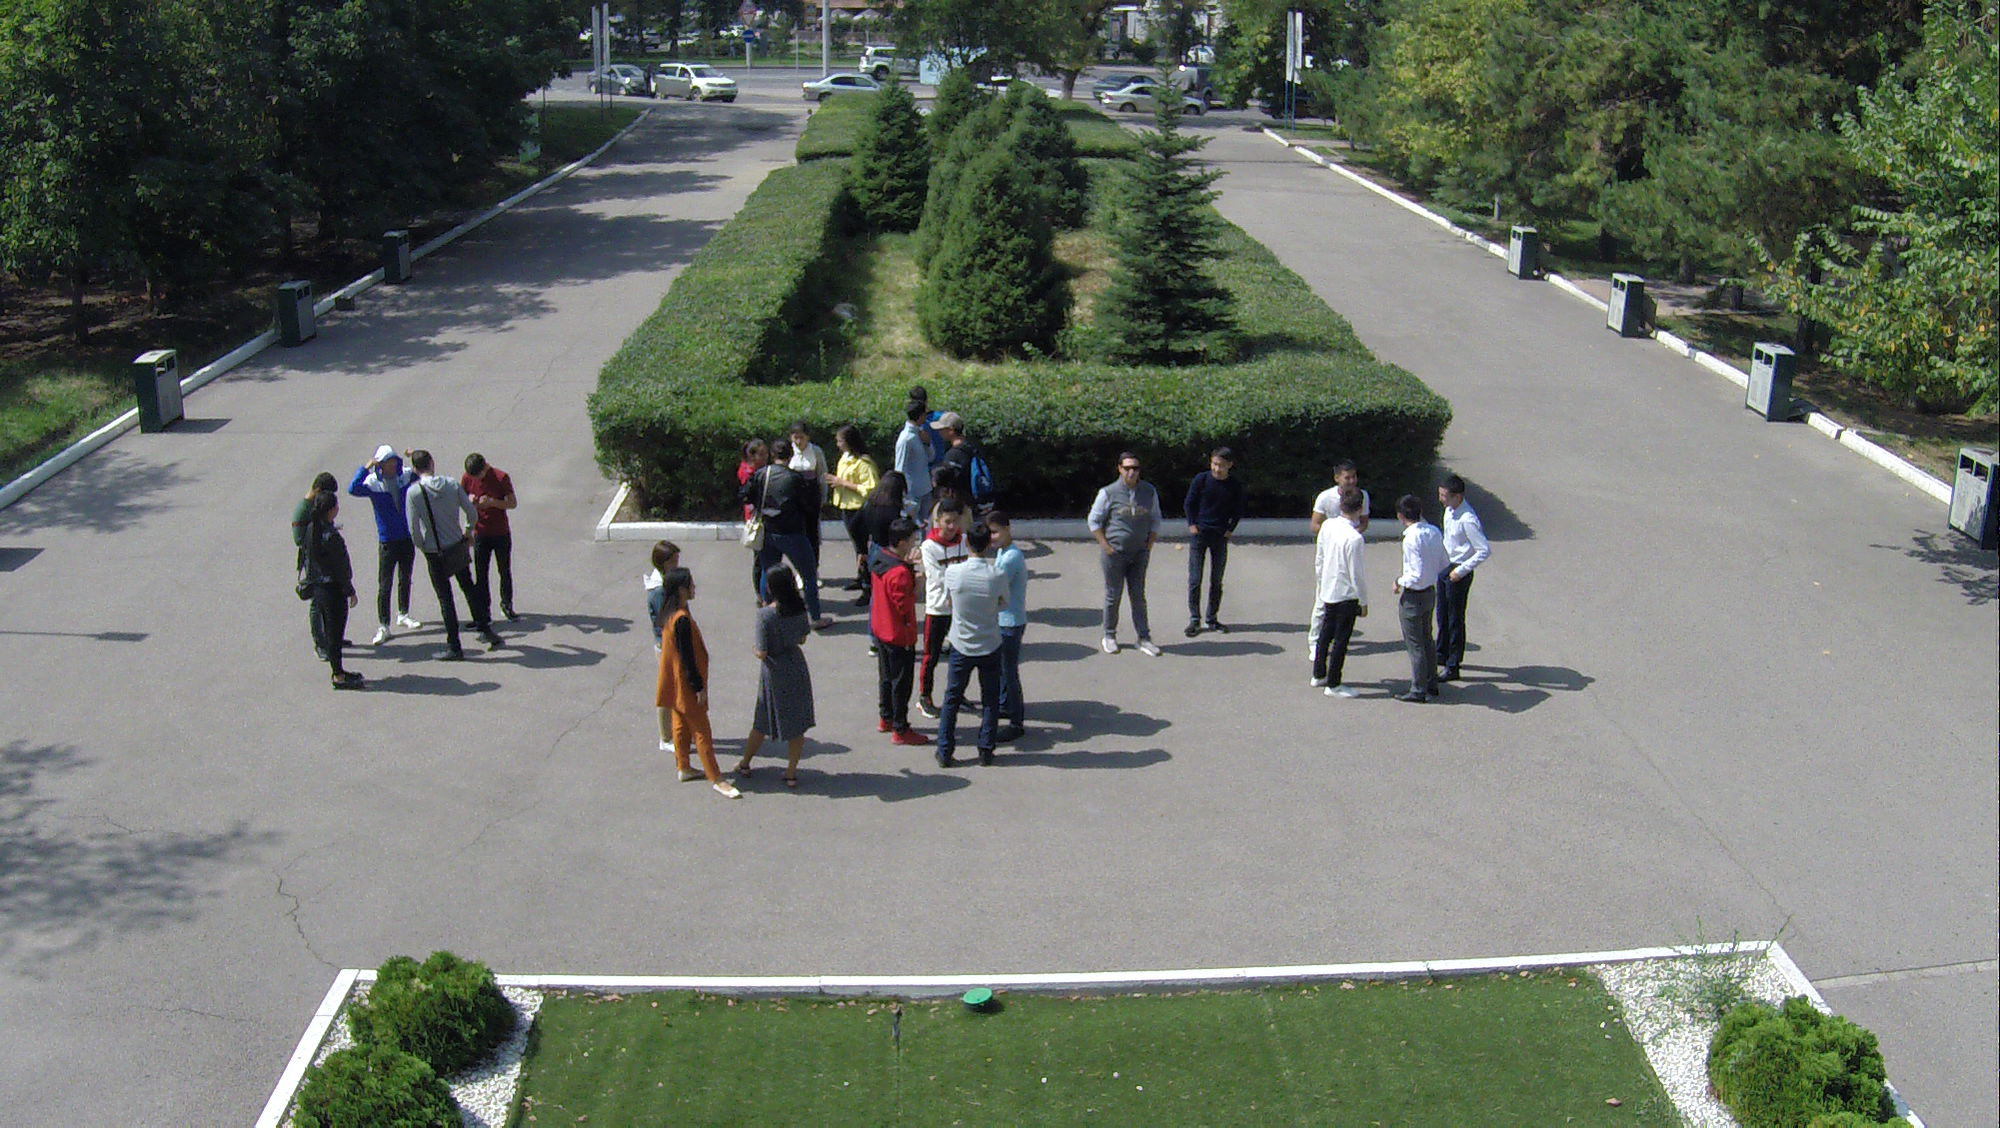person: (649, 570, 743, 810), (730, 558, 822, 805), (403, 451, 495, 668), (924, 526, 1005, 772), (1091, 460, 1168, 668), (1176, 445, 1249, 647), (364, 447, 426, 653), (1435, 487, 1493, 703), (297, 495, 357, 701), (1393, 499, 1441, 703), (1318, 503, 1355, 699), (472, 464, 514, 626), (928, 416, 976, 495), (837, 426, 864, 560), (764, 445, 799, 539), (893, 410, 924, 491), (1320, 464, 1368, 510)
